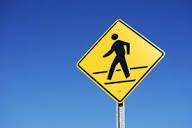Pedestrian Crossing: (75, 65, 143, 125)
